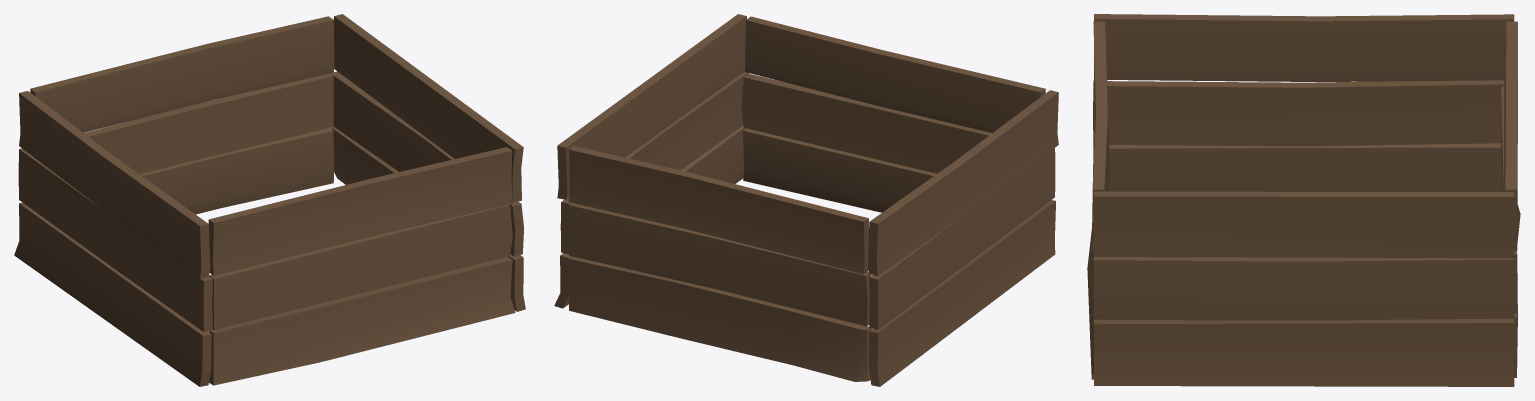
The model's file is tomato_patch.FBX.
The picture shows the model from 3 angles, left to right: view 1: azimuth 30°, elevation 25°; view 2: azimuth 150°, elevation 25°; view 3: azimuth 270°, elevation 25°; orthographic projection. The views are drawn at different scales.
Visible parts, largest first — view 1: Tomaten_Beet; view 2: Tomaten_Beet; view 3: Tomaten_Beet.
Boxes of the visible parts, x1,y1,x2,y2 form: Tomaten_Beet: [14, 14, 525, 386]; Tomaten_Beet: [554, 14, 1058, 386]; Tomaten_Beet: [1087, 14, 1520, 386].
Size of the model in its own units: 104 by 49.65 by 102.
